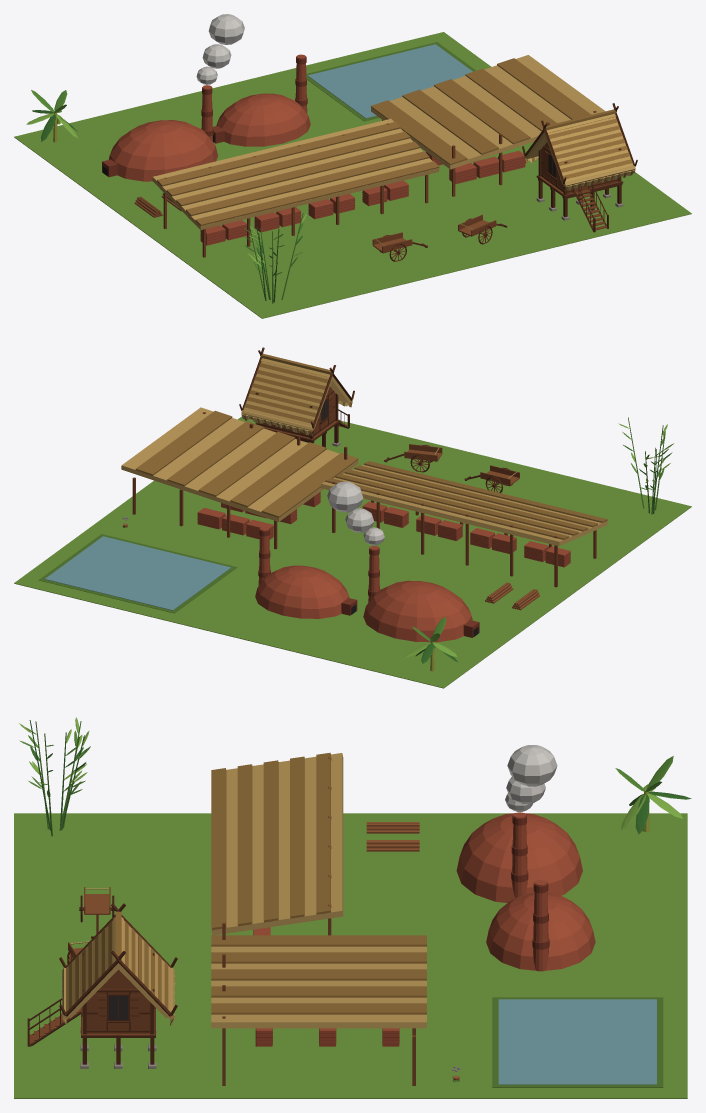
The model's file is factory_4.glb.
The picture shows the model from 3 angles, top to bottom: view 1: azimuth 30°, elevation 25°; view 2: azimuth 150°, elevation 25°; view 3: azimuth 270°, elevation 25°; orthographic projection. The views are drawn at different scales.
Visible parts, largest first — view 1: body; view 2: body; view 3: body.
Part boxes in pixels (x1,y1,x2,y2): body: [14, 14, 691, 318]; body: [14, 347, 691, 688]; body: [14, 717, 691, 1098].
Size of the model in its own units: 31.96 by 9.02 by 32.1.
